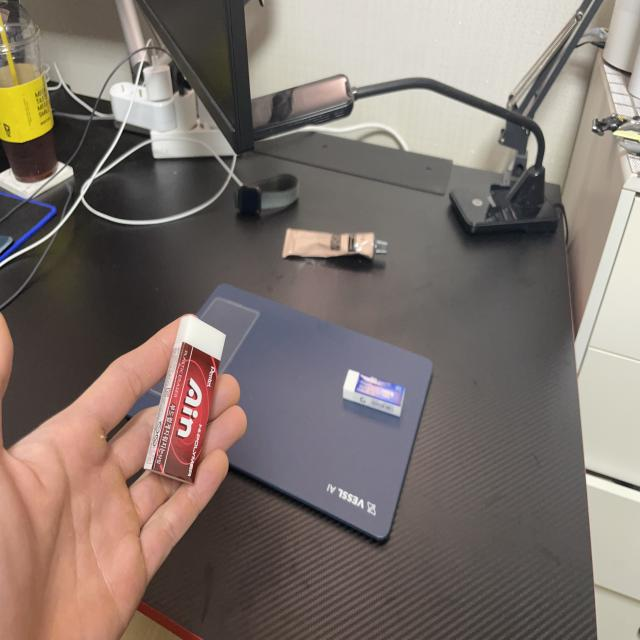blue: (337, 362, 412, 426)
red: (138, 305, 232, 492)
